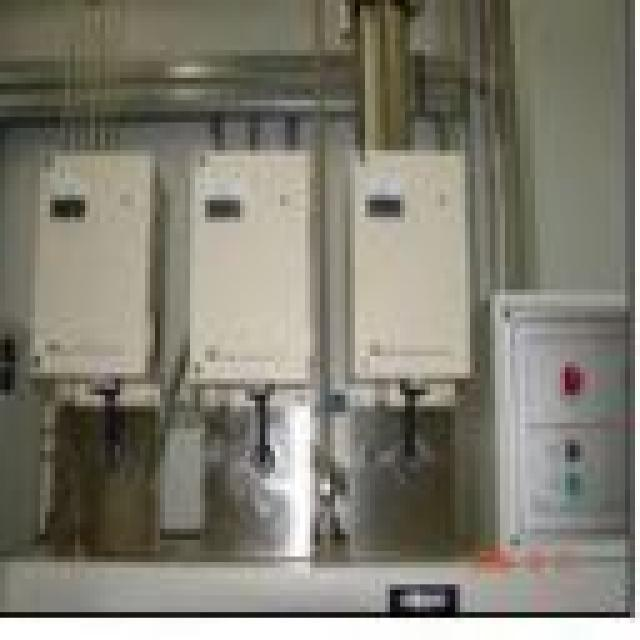Boiler: (171, 109, 343, 455), (21, 118, 171, 448), (356, 92, 492, 444)
